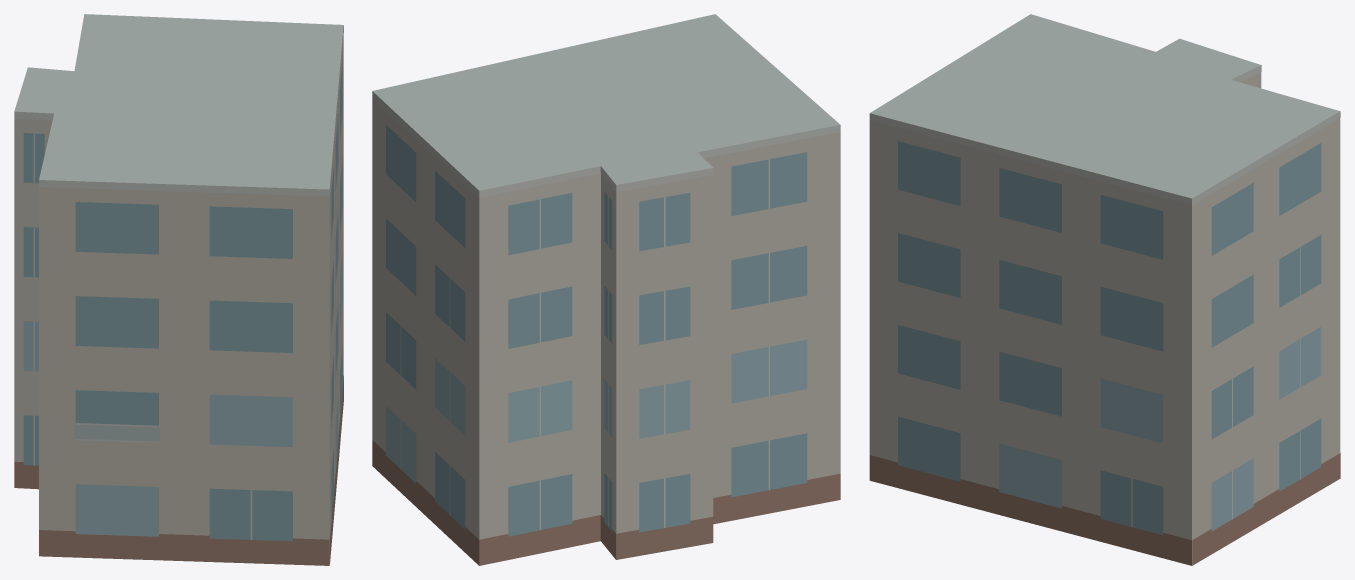
File: survey-upis-32754905.glb
The picture shows the model from 3 angles, left to right: view 1: azimuth 30°, elevation 25°; view 2: azimuth 150°, elevation 25°; view 3: azimuth 270°, elevation 25°; orthographic projection. The views are drawn at different scales.
Parts seen in each view (by area): view 1: survey-upis-32754905.tmp; view 2: survey-upis-32754905.tmp; view 3: survey-upis-32754905.tmp.
Part boxes in pixels (bbox=[...]): survey-upis-32754905.tmp: bbox=[14, 14, 343, 565]; survey-upis-32754905.tmp: bbox=[372, 14, 840, 565]; survey-upis-32754905.tmp: bbox=[869, 14, 1340, 565].
Bounding box in the file's own units: 13.9 × 12.9 × 14.99.
